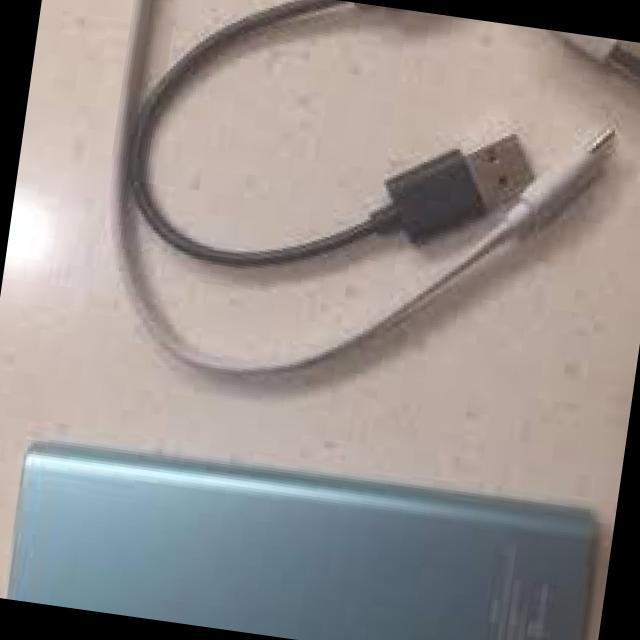power_bank: (7, 431, 606, 640)
